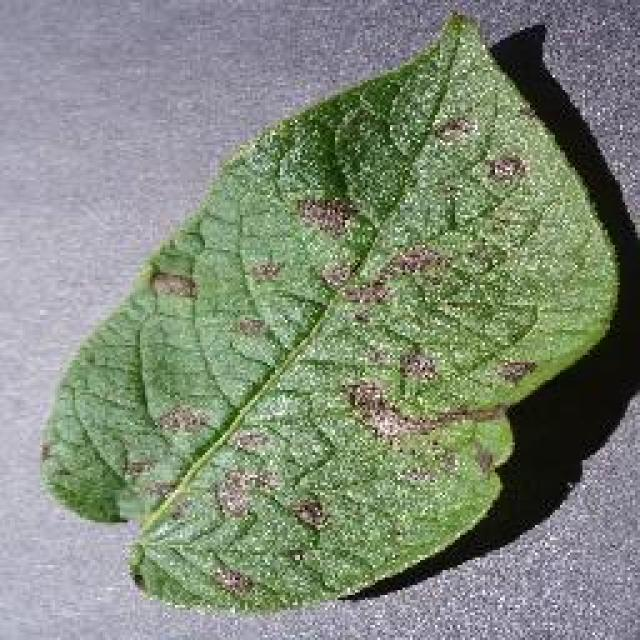Potato: (38, 10, 622, 615)
